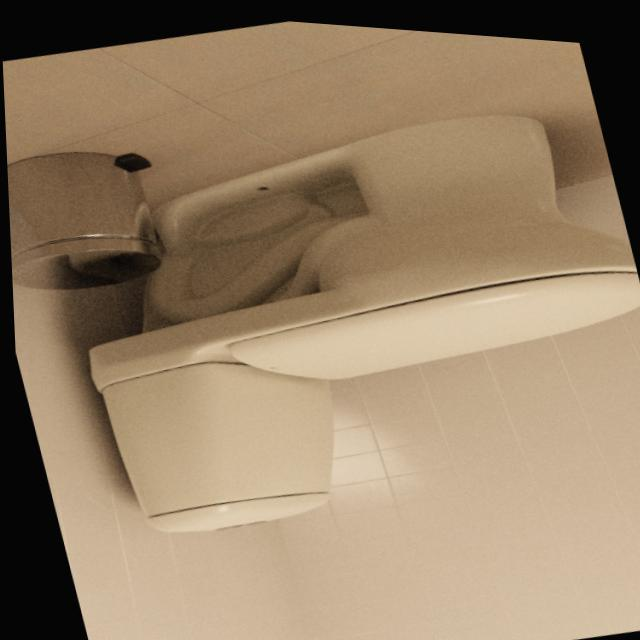toilet: (33, 56, 640, 572)
